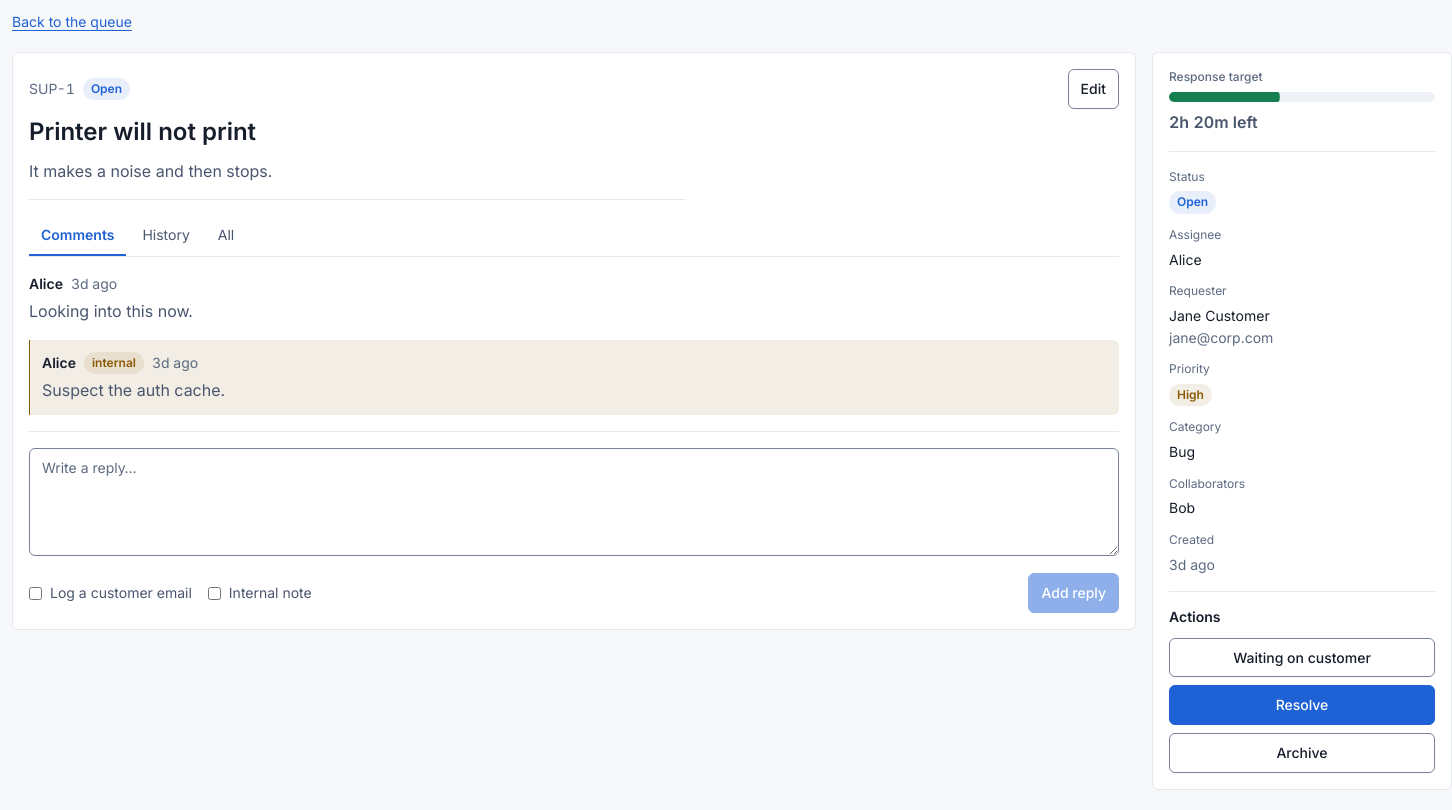
Test: TicketDetailPage › posts a status change and re-renders from the response
Step 1. Click the button "Resolve" → [1302, 705], box [1169,686,1435,725]
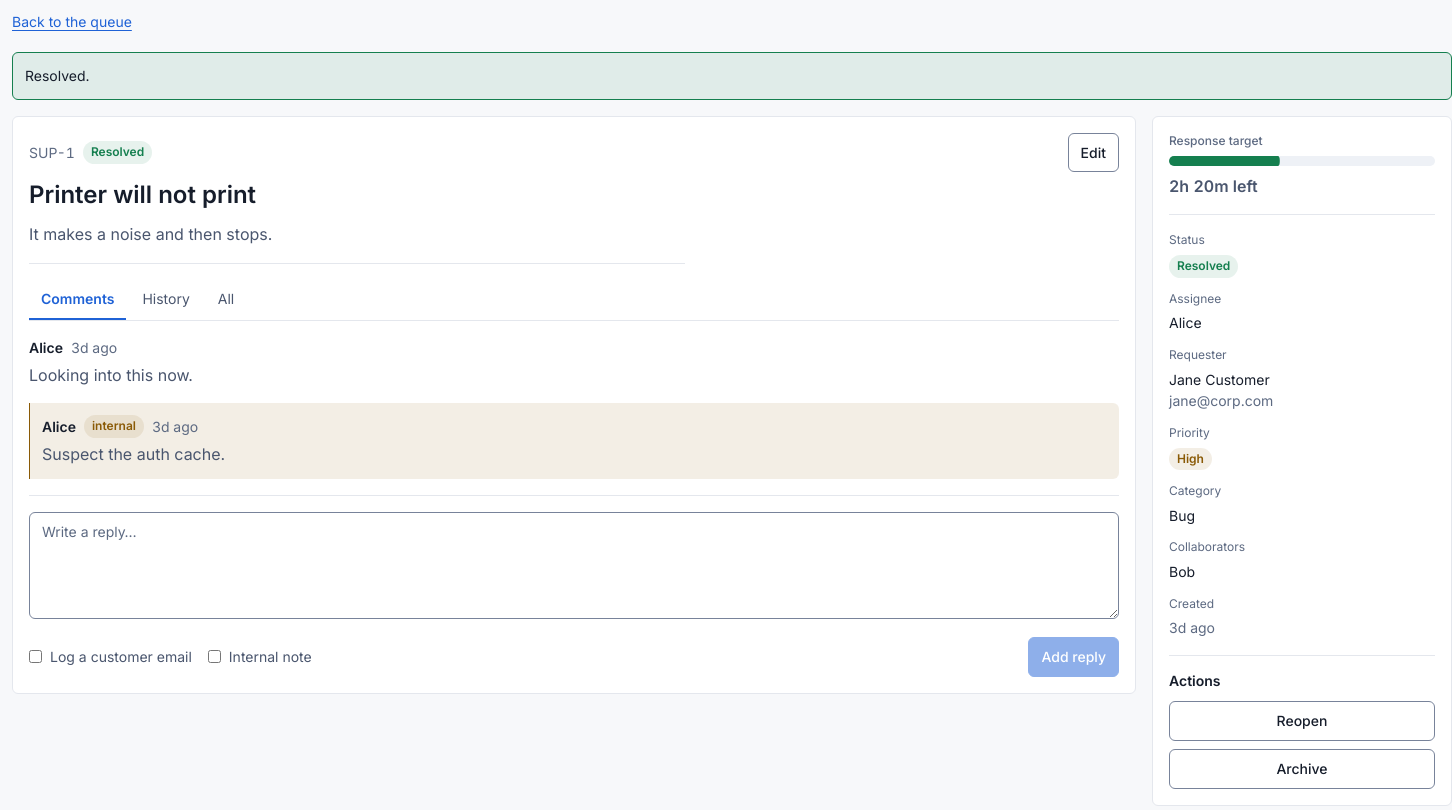
Expected: the button "Reopen" is shown, [1169,702,1435,741]
